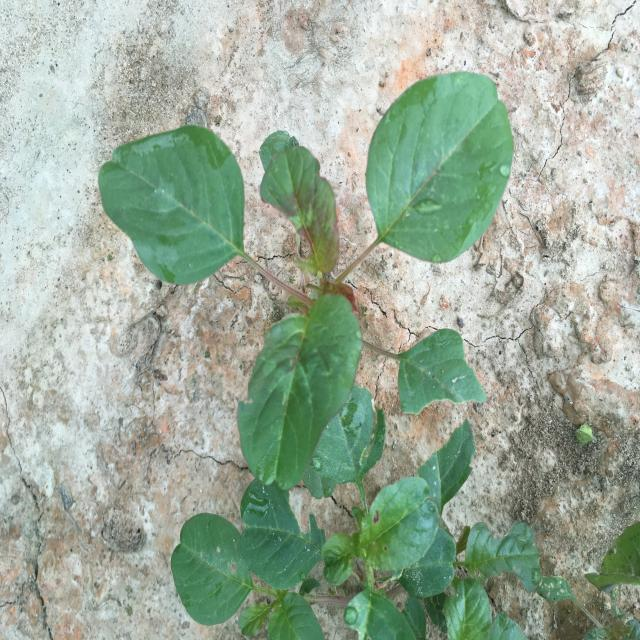PalmerAmaranth: (98, 71, 515, 490), (171, 383, 543, 640)
